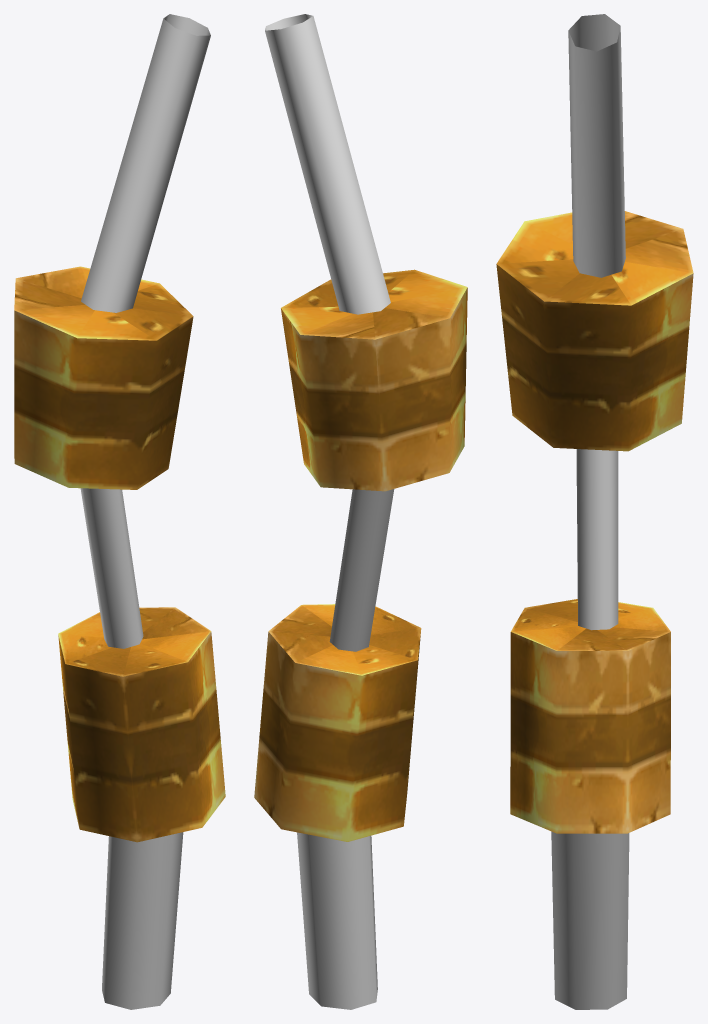
Rendered from gnomepipe04.obj.
The picture shows the model from 3 angles, left to right: view 1: azimuth 30°, elevation 25°; view 2: azimuth 150°, elevation 25°; view 3: azimuth 270°, elevation 25°; orthographic projection. The views are drawn at different scales.
Parts seen in each view (by area): view 1: Geoset1, Geoset0; view 2: Geoset1, Geoset0; view 3: Geoset1, Geoset0.
Part boxes in pixels (x1,y1,x2,y2): Geoset1: (14,266,225,842); Geoset0: (80,14,210,1009); Geoset1: (254,269,467,841); Geoset0: (265,14,394,1009); Geoset1: (496,211,693,833); Geoset0: (551,14,629,1009).
Size of the model in its own units: 6.21 by 30.36 by 5.43.
